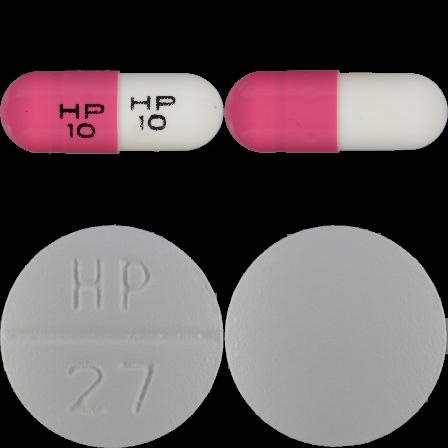23155-010: (0, 0, 224, 224)
